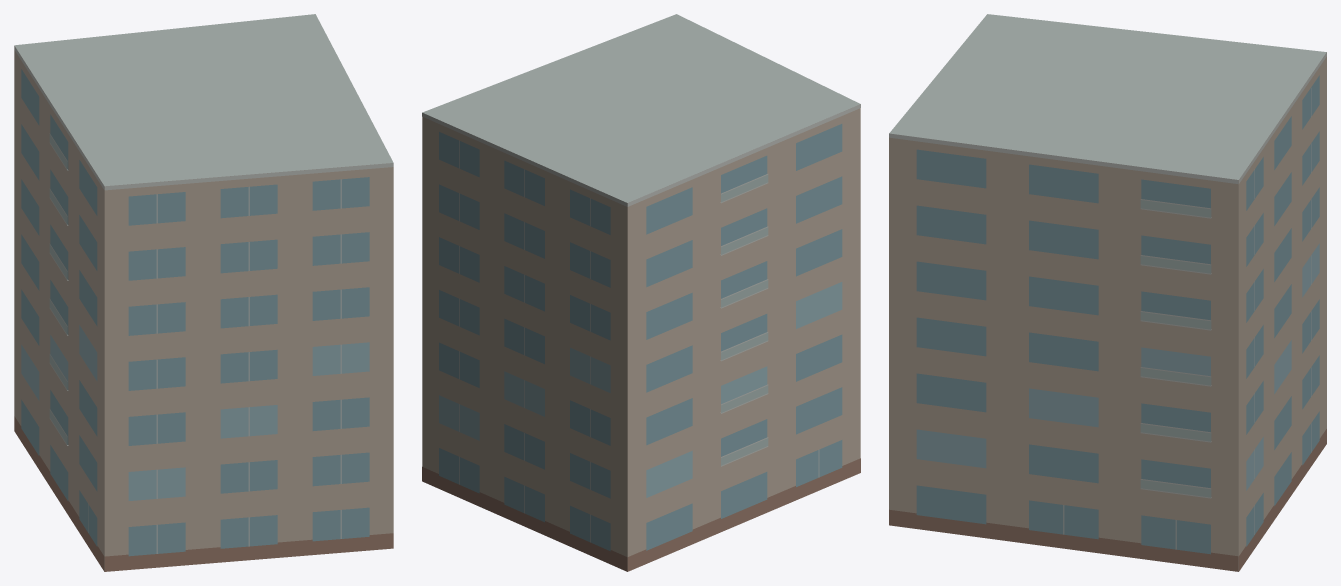
The model's file is survey-upis-32746084.glb.
3 views of the same model, side by side, from view 1: azimuth 30°, elevation 25°; view 2: azimuth 150°, elevation 25°; view 3: azimuth 270°, elevation 25° (orthographic). The views are drawn at different scales.
Visible parts, largest first — view 1: survey-upis-32746084.tmp; view 2: survey-upis-32746084.tmp; view 3: survey-upis-32746084.tmp.
Part boxes in pixels (<box>): survey-upis-32746084.tmp: <box>14,14,393,571</box>; survey-upis-32746084.tmp: <box>422,14,860,571</box>; survey-upis-32746084.tmp: <box>889,14,1326,571</box>.
Bounding box in the file's own units: 20.64 × 22.7 × 22.99.
